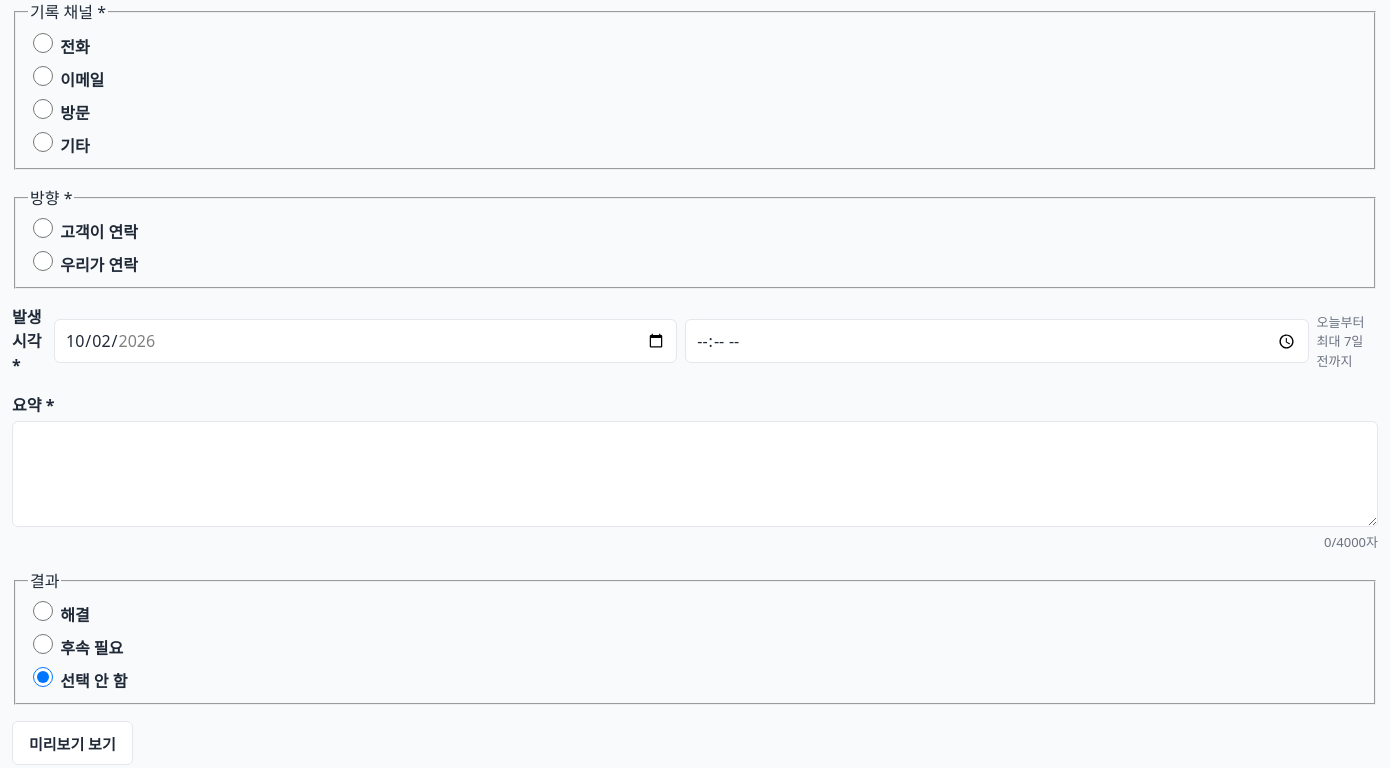
it: ManualRecordForm — 저장 버튼 게이팅 › 기록 채널·방향을 모두 선택하면 활성화된다
This screenshot has width=1390, height=768.
Click the radio button labelled "전화": [43, 43] box [33, 33, 53, 53]
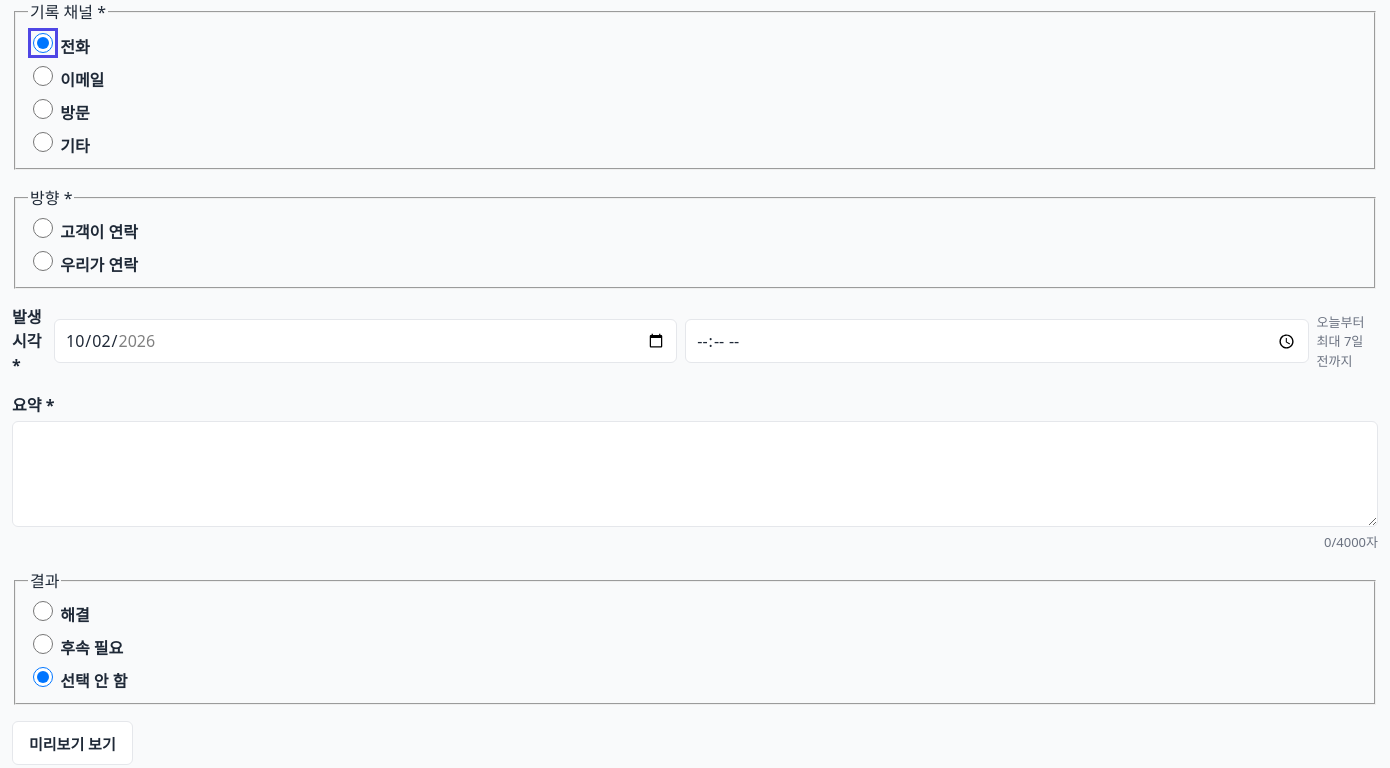
Click the radio button labelled "고객이 연락": [43, 228] box [33, 218, 53, 238]
(page scrolled)
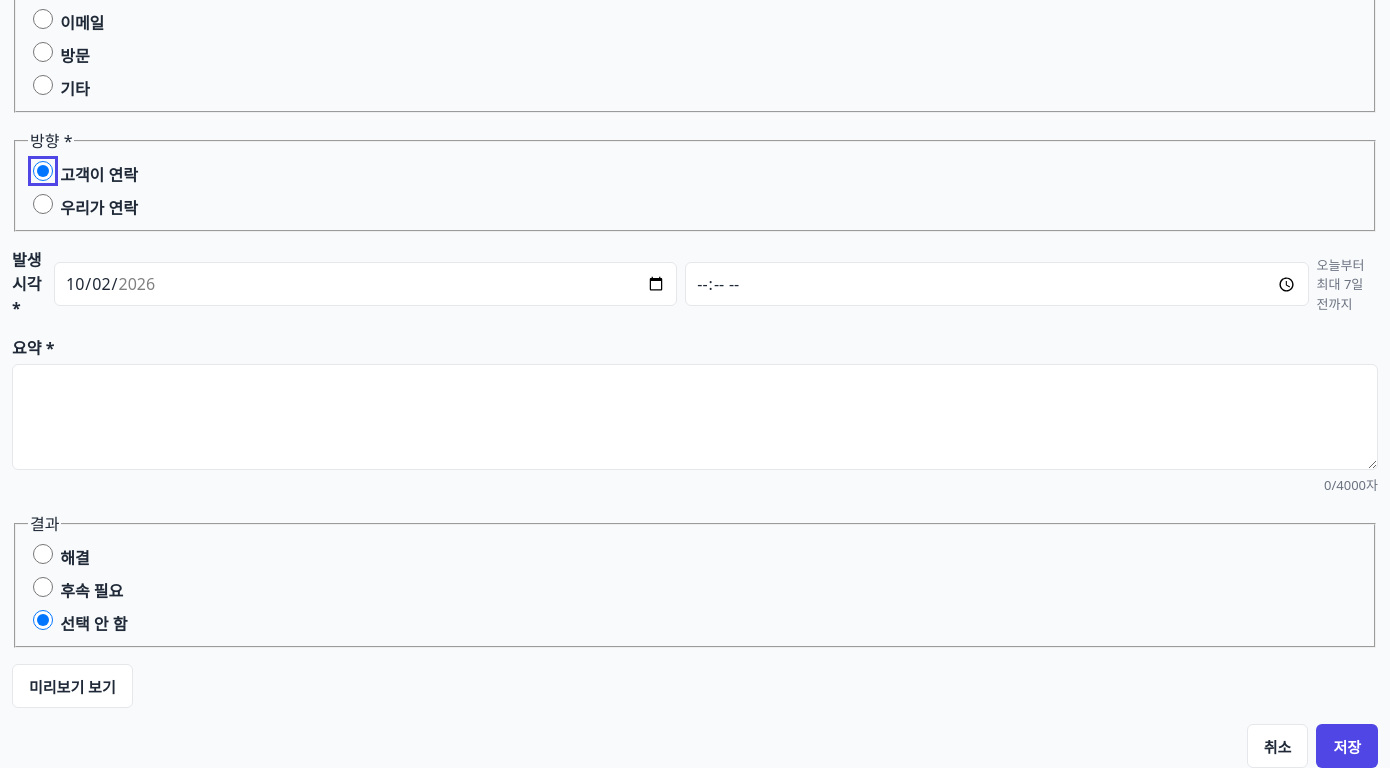
Expected: the button "저장" is enabled, [1316, 724, 1378, 767]
